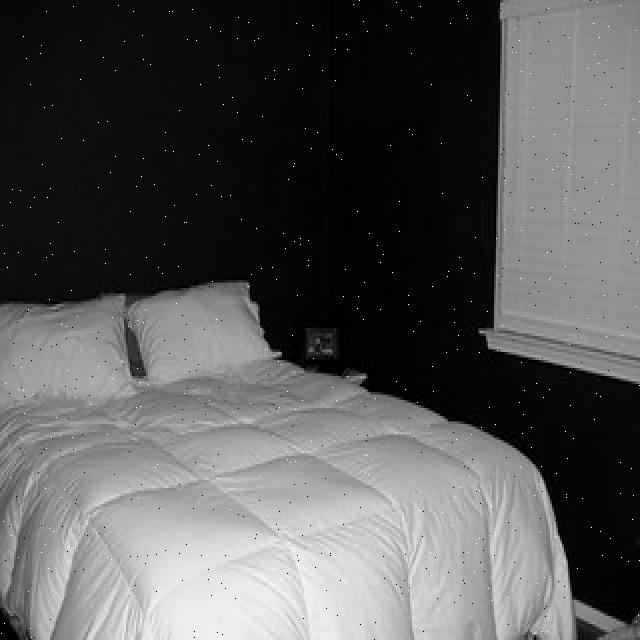bed: (1, 276, 569, 640)
